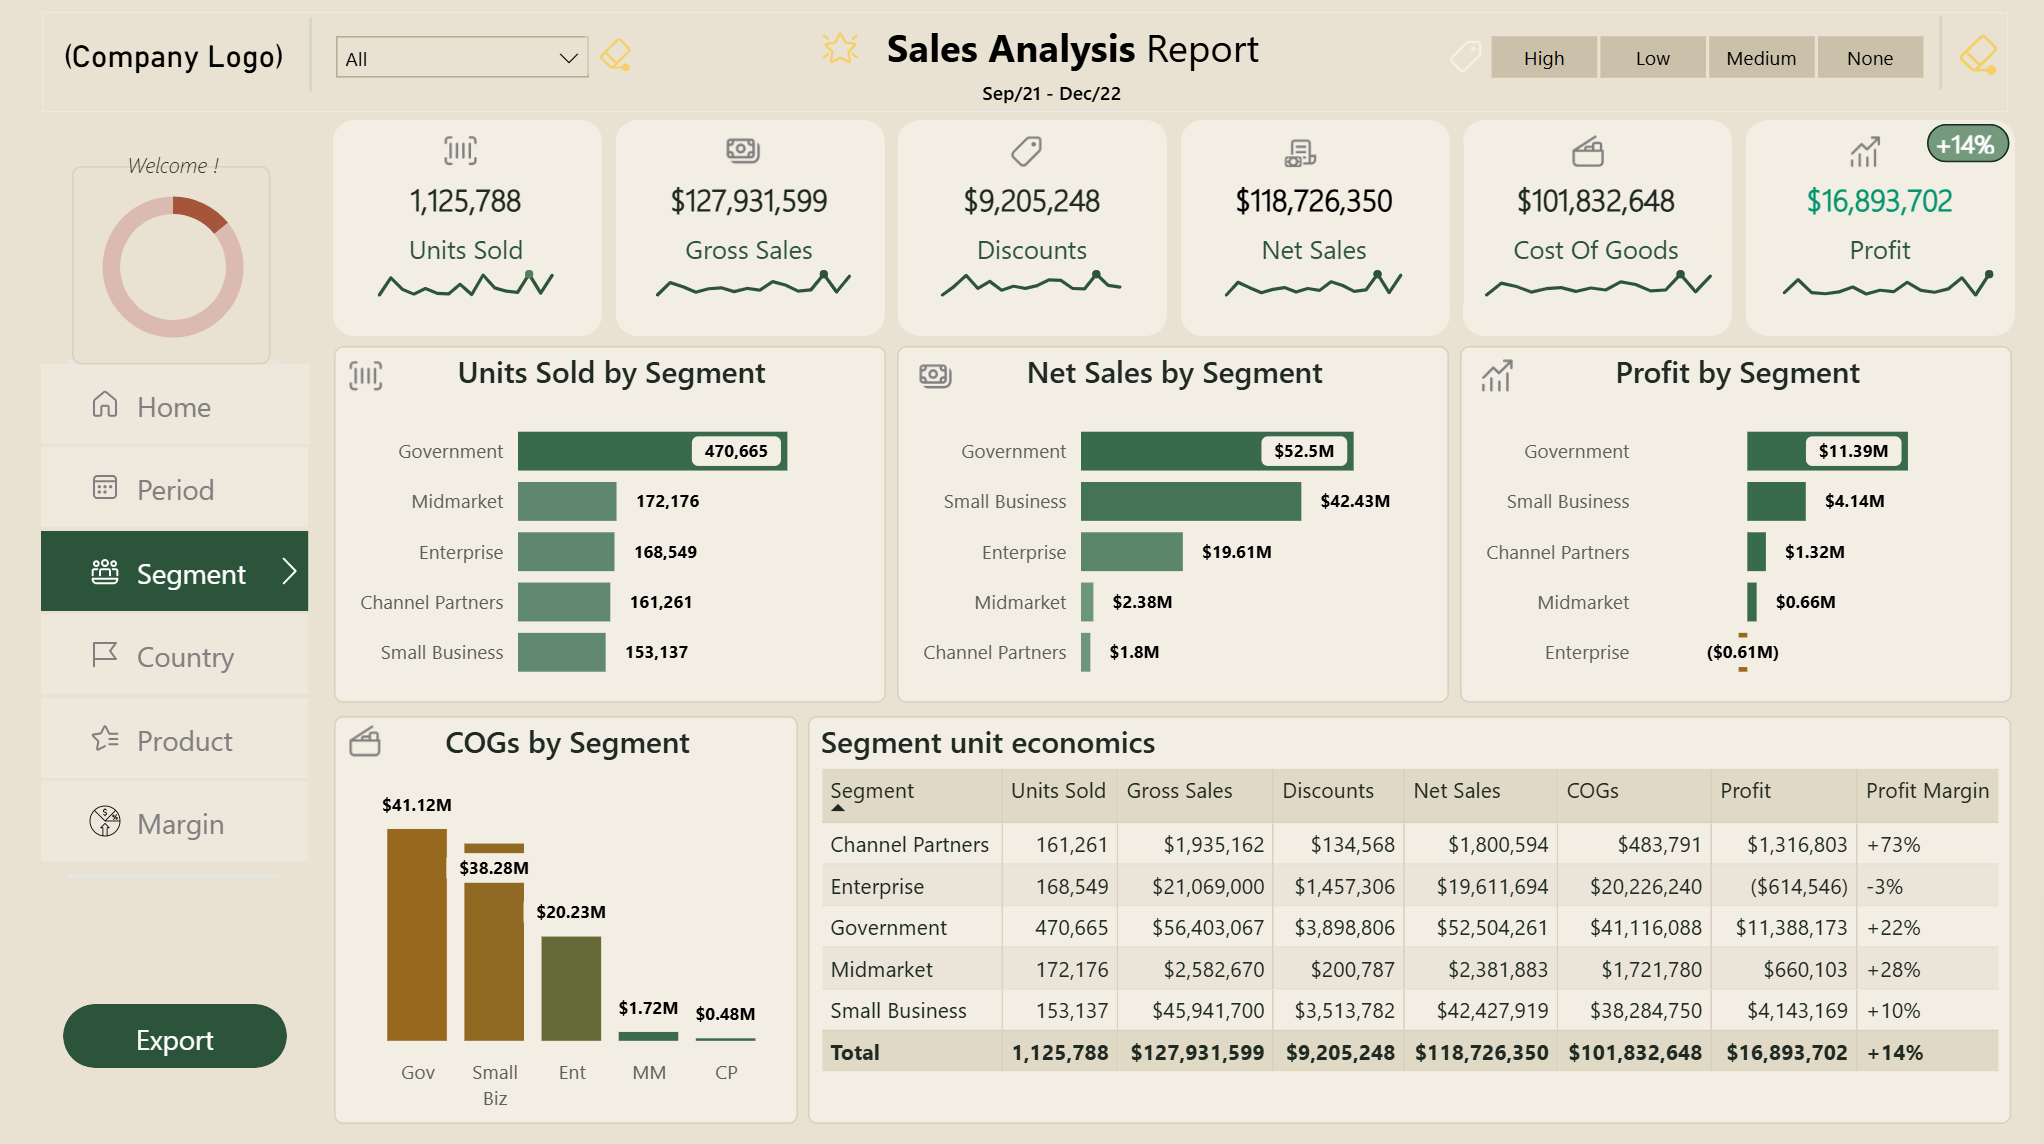

This screenshot's page, from the dashboard's own definition file:
{"tool":"powerbi","page":{"name":"Sales Analysis","canvas":[1280,720],"ordinal":1},"visuals":[{"type":"textbox","title":"Text box Title","box":[552,9.3,307.6,46.1],"z":0,"group":"g6"},{"type":"shape","title":"Shape _Profit_YOY","box":[1207.2,79.2,51.5,24],"z":0,"group":"g3"},{"type":"pivotTable","fields":{"Rows":["DIM_MANAGERS.Image URL"]},"box":[67.1,121.2,85,85],"z":0,"group":"g5"},{"type":"clusteredBarChart","title":"Units Sold by Product","fields":{"Category":["FACT_SALES.Product"],"Y":["Measure.M_Units Sold"]},"box":[211,216,345,223],"z":0,"group":"g2"},{"type":"actionButton","title":"Button_Product_active","box":[28,438,167.1,50],"z":0,"group":"g1"},{"type":"actionButton","title":"Button_Export","box":[42,629.2,140,40],"z":0,"group":"g4"},{"type":"shape","box":[1093.6,77.1,168,135],"z":500},{"type":"textbox","title":"Text box Logo","box":[28.6,20.7,164.6,37],"z":1000,"group":"g6"},{"type":"cardVisual","title":"Card_Profit_YOY","fields":{"Data":["Measure.M_Profit Margin Formatted"]},"box":[1195.1,71.8,73.5,31.1],"z":1000,"group":"g3"},{"type":"shape","box":[65.7,126.9,85.7,85.7],"z":1000,"group":"g5"},{"type":"clusteredBarChart","title":"Net Sales by Product","fields":{"Category":["FACT_SALES.Product"],"Y":["Measure.M_Net Sales"]},"box":[563.6,216,345,223],"z":1000,"group":"g2"},{"type":"actionButton","title":"Button arrow","box":[165.1,438,30,50],"z":1000,"group":"g1"},{"type":"shape","title":"Shape_Bottom_Nav_divider","box":[45,533.2,132,32],"z":1000,"group":"g4"},{"type":"slicer","title":"Slicer_Discount_Band","fields":{"Values":["FACT_SALES.Discount Band"]},"box":[908.4,17.5,319.7,40.4],"z":2000,"group":"g6"},{"type":"donutChart","title":"Donut Chart Profit Margin and Profit Margin Difference","fields":{"Y":["Measure.M_Profit Margin","Measure.M_100% Minus Profit Margin"]},"box":[47.1,105.5,124.3,124.3],"z":2000,"group":"g5"},{"type":"pivotTable","title":"Spark_Profit","fields":{"Values":["SparklineData(Measure.M_Profit_[DIM_DATE.YearMonth])"]},"box":[1089.1,136.2,171.9,61.9],"z":2000,"group":"g3"},{"type":"shape","title":"Shape_Top_Nav_divider","box":[45,212.2,132,32],"z":2000,"group":"g4"},{"type":"clusteredBarChart","title":"Profit by Product","fields":{"Category":["FACT_SALES.Product Name (Short)"],"Y":["Measure.M_Profit"]},"box":[916.3,216,345,223],"z":2000,"group":"g2"},{"type":"slicer","title":"Slicer Managers","fields":{"Values":["DIM_MANAGERS.Manager Name"]},"box":[202,14.5,177.6,44.3],"z":3000,"group":"g6"},{"type":"shape","title":"Shape Hide Scrol","box":[139.2,111.2,20,20],"z":3000,"group":"g5"},{"type":"pivotTable","title":"Spark_COG","fields":{"Values":["SparklineData(Measure.M_Cost Of Goods_[DIM_DATE.YearMonth])"]},"box":[903,136.2,183.1,60.6],"z":3000,"group":"g3"},{"type":"clusteredColumnChart","title":"COGs by Product","fields":{"Category":["FACT_SALES.Product Name (Short)"],"Y":["Measure.M_Cost Of Goods"]},"box":[211.6,447,290,255],"z":3000,"group":"g2"},{"type":"actionButton","title":"Button_Help","box":[28,490.2,167.1,50],"z":3000,"group":"g4"},{"type":"tableEx","title":"Product unit economics","fields":{"Values":["FACT_SALES.Product","Measure.M_Units Sold","Measure.M_Gross Sales","Measure.M_Discounts","Measure.M_Net Sales"]},"box":[509.8,447,751.4,255],"z":3500,"group":"g2"},{"type":"actionButton","title":"Button Clear Managers","box":[368.2,23.4,37.6,24.6],"z":4000,"group":"g6"},{"type":"shape","box":[917,77.1,168,135],"z":4000},{"type":"cardVisual","title":"Card Welcome","fields":{"Data":["Measure.M_User Greeting"]},"box":[33.3,82,154.4,36.7],"z":4000,"group":"g5"},{"type":"pivotTable","title":"Spark_Net_Sales","fields":{"Values":["SparklineData(Measure.M_Net Sales_[DIM_DATE.YearMonth])"]},"box":[739.9,136.2,169.3,61.9],"z":4000,"group":"g3"},{"type":"group","id":"g1","title":"Button_Product_active","box":[28,438,167.1,50],"z":4000,"group":"g4"},{"type":"shape","box":[740.5,77.1,168,135],"z":4625},{"type":"actionButton","title":"Button Title Icon","box":[498.9,12,57.9,40],"z":5000,"group":"g6"},{"type":"pivotTable","title":"Spark_Dscounts","fields":{"Values":["SparklineData(Measure.M_Discounts_[DIM_DATE.YearMonth])"]},"box":[562.7,136.2,169.3,61.9],"z":5000,"group":"g3"},{"type":"shape","box":[563.9,77.1,168,135],"z":5250},{"type":"shape","box":[387.4,77.1,168,135],"z":5375},{"type":"shape","box":[210.8,77.1,168,135],"z":5500},{"type":"cardVisual","title":"Card Date Range","fields":{"Data":["Measure.M_Date Selection"]},"box":[599.4,39.3,121.9,32.9],"z":6000,"group":"g6"},{"type":"pivotTable","title":"Spark_Gross_Sales","fields":{"Values":["SparklineData(Measure.M_Gross Sales_[DIM_DATE.YearMonth])"]},"box":[384.8,136.2,171.3,61.9],"z":6000,"group":"g3"},{"type":"pivotTable","title":"Spark_Unit_Sold","fields":{"Values":["SparklineData(Measure.M_Units Sold_[DIM_DATE.YearMonth])"]},"box":[210.8,136.2,167.3,61.9],"z":6500,"group":"g3"},{"type":"actionButton","title":"Button Discount icon","box":[904.2,24.4,28.2,26.6],"z":7000,"group":"g6"},{"type":"cardVisual","title":"Card_Profit","fields":{"Data":["Measure.M_Profit"]},"box":[1090,95.3,175,90],"z":7000,"group":"g3"},{"type":"group","id":"g2","title":"Product","box":[211,216,1050.3,486],"z":7000},{"type":"actionButton","title":"Button_Country","box":[28,385.8,167.1,50],"z":7000,"group":"g4"},{"type":"actionButton","title":"Button Clear Discount","box":[1220.7,21.4,36.9,29.5],"z":8000,"group":"g6"},{"type":"cardVisual","title":"Card_COG","fields":{"Data":["Measure.M_Cost Of Goods"]},"box":[920,95.3,160,90],"z":8000,"group":"g3"},{"type":"shape","title":"Divider Line Left","box":[182.4,12.8,28.3,46.1],"z":9000,"group":"g6"},{"type":"cardVisual","title":"Card_Net_Sales","fields":{"Data":["Measure.M_Net Sales"]},"box":[744,95.3,160,90],"z":9000,"group":"g3"},{"type":"actionButton","title":"Button_Segment","box":[28,333.6,167.1,50],"z":9000,"group":"g4"},{"type":"shape","title":"Divider Line Right","box":[1205.8,12,18.4,46.1],"z":10000,"group":"g6"},{"type":"cardVisual","title":"Card_Discount","fields":{"Data":["Measure.M_Discounts"]},"box":[568,95.3,160,90],"z":10000,"group":"g3"},{"type":"cardVisual","title":"Card_Gross_Sales","fields":{"Data":["Measure.M_Gross Sales"]},"box":[391,95.3,160,90],"z":11000,"group":"g3"},{"type":"actionButton","box":[28,281.4,167.1,50],"z":11000,"group":"g4"},{"type":"group","id":"g3","title":"Static","box":[210.8,71.8,1057.9,408.4],"z":12000},{"type":"cardVisual","title":"Card_Unit_Sold","fields":{"Data":["Measure.M_Units Sold"]},"box":[214,95.3,160,90],"z":12000,"group":"g3"},{"type":"actionButton","title":"Button_Home","box":[28,229.2,168,50],"z":12000,"group":"g4"},{"type":"group","id":"g4","title":"Navigation","box":[28,82,168,587.2],"z":13000},{"type":"group","id":"g5","title":"Group_Mgr Image","box":[33.3,82,154.4,147.8],"z":13000,"group":"g4"},{"type":"group","id":"g6","title":"Header","box":[28.6,9.3,1228.9,62.9],"z":14000},{"type":"actionButton","title":"Button_Profit","box":[1152.5,81.3,33.1,30.9],"z":14000,"group":"g3"},{"type":"actionButton","title":"Button_COG","box":[979.5,80.8,33.6,31.4],"z":15000,"group":"g3"},{"type":"actionButton","title":"Button_Net_Sales","box":[800.9,81.3,33.1,30.9],"z":16000,"group":"g3"},{"type":"shape","box":[907,90.5,12.1,101.6],"z":16000},{"type":"actionButton","title":"Button_Discount","box":[628.1,81,32.9,31.2],"z":17000,"group":"g3"},{"type":"actionButton","title":"Button_Gross_Sales","box":[450.9,79.4,33.6,32.9],"z":18000,"group":"g3"},{"type":"actionButton","title":"Button_Unit_Sold","box":[274.5,80.2,32.3,32],"z":19000,"group":"g3"},{"type":"actionButton","title":"Button_COG","box":[215.2,449.1,32.6,31.1],"z":20000,"group":"g3"},{"type":"actionButton","title":"Button_Profit","box":[922.2,220.5,32.6,32],"z":21000,"group":"g3"},{"type":"actionButton","title":"Button_Gross_Sales","box":[571.5,220.5,32.6,32],"z":22000,"group":"g3"},{"type":"actionButton","title":"Button_Unit_Sold","box":[215.2,220.5,32.6,32.2],"z":23000,"group":"g3"}]}

Visuals, with their boxes in screenshot pixels (x1, y1, x2, y2), scaled from the page's 1280x720 canvas onto the 2044x1144 screenshot:
"Text box Title" textbox: bbox=[881, 15, 1373, 88]
"Shape _Profit_YOY" shape: bbox=[1928, 126, 2010, 164]
pivotTable - DIM_MANAGERS.Image URL: bbox=[107, 193, 243, 328]
"Units Sold by Product" clusteredBarChart: bbox=[337, 343, 888, 698]
"Button_Product_active" actionButton: bbox=[45, 696, 312, 775]
"Button_Export" actionButton: bbox=[67, 1000, 291, 1063]
shape: bbox=[1746, 123, 2015, 337]
"Text box Logo" textbox: bbox=[46, 33, 309, 92]
"Card_Profit_YOY" cardVisual: bbox=[1908, 114, 2026, 163]
shape: bbox=[105, 202, 242, 338]
"Net Sales by Product" clusteredBarChart: bbox=[900, 343, 1451, 698]
"Button arrow" actionButton: bbox=[264, 696, 312, 775]
"Shape_Bottom_Nav_divider" shape: bbox=[72, 847, 283, 898]
"Slicer_Discount_Band" slicer: bbox=[1451, 28, 1961, 92]
"Donut Chart Profit Margin and Profit Margin Difference" donutChart: bbox=[75, 168, 274, 365]
"Spark_Profit" pivotTable: bbox=[1739, 216, 2014, 315]
"Shape_Top_Nav_divider" shape: bbox=[72, 337, 283, 388]
"Profit by Product" clusteredBarChart: bbox=[1463, 343, 2014, 698]
"Slicer Managers" slicer: bbox=[323, 23, 606, 93]
"Shape Hide Scrol" shape: bbox=[222, 177, 254, 208]
"Spark_COG" pivotTable: bbox=[1442, 216, 1734, 313]
"COGs by Product" clusteredColumnChart: bbox=[338, 710, 801, 1115]
"Button_Help" actionButton: bbox=[45, 779, 312, 858]
"Product unit economics" tableEx: bbox=[814, 710, 2014, 1115]
"Button Clear Managers" actionButton: bbox=[588, 37, 648, 76]
shape: bbox=[1464, 123, 1733, 337]
"Card Welcome" cardVisual: bbox=[53, 130, 300, 189]
"Spark_Net_Sales" pivotTable: bbox=[1182, 216, 1452, 315]
"Button_Product_active" group: bbox=[45, 696, 312, 775]
shape: bbox=[1182, 123, 1451, 337]
"Button Title Icon" actionButton: bbox=[797, 19, 889, 83]
"Spark_Dscounts" pivotTable: bbox=[899, 216, 1169, 315]
shape: bbox=[900, 123, 1169, 337]
shape: bbox=[619, 123, 887, 337]
shape: bbox=[337, 123, 605, 337]
"Card Date Range" cardVisual: bbox=[957, 62, 1152, 115]
"Spark_Gross_Sales" pivotTable: bbox=[614, 216, 888, 315]
"Spark_Unit_Sold" pivotTable: bbox=[337, 216, 604, 315]
"Button Discount icon" actionButton: bbox=[1444, 39, 1489, 81]
"Card_Profit" cardVisual: bbox=[1741, 151, 2020, 294]
"Product" group: bbox=[337, 343, 2014, 1115]
"Button_Country" actionButton: bbox=[45, 613, 312, 692]
"Button Clear Discount" actionButton: bbox=[1949, 34, 2008, 81]
"Card_COG" cardVisual: bbox=[1469, 151, 1725, 294]
"Divider Line Left" shape: bbox=[291, 20, 336, 94]
"Card_Net_Sales" cardVisual: bbox=[1188, 151, 1444, 294]
"Button_Segment" actionButton: bbox=[45, 530, 312, 609]
"Divider Line Right" shape: bbox=[1926, 19, 1955, 92]
"Card_Discount" cardVisual: bbox=[907, 151, 1163, 294]
"Card_Gross_Sales" cardVisual: bbox=[624, 151, 880, 294]
actionButton: bbox=[45, 447, 312, 527]
"Static" group: bbox=[337, 114, 2026, 763]
"Card_Unit_Sold" cardVisual: bbox=[342, 151, 597, 294]
"Button_Home" actionButton: bbox=[45, 364, 313, 444]
"Navigation" group: bbox=[45, 130, 313, 1063]
"Group_Mgr Image" group: bbox=[53, 130, 300, 365]
"Header" group: bbox=[46, 15, 2008, 115]
"Button_Profit" actionButton: bbox=[1840, 129, 1893, 178]
"Button_COG" actionButton: bbox=[1564, 128, 1618, 178]
"Button_Net_Sales" actionButton: bbox=[1279, 129, 1332, 178]
shape: bbox=[1448, 144, 1468, 305]
"Button_Discount" actionButton: bbox=[1003, 129, 1056, 178]
"Button_Gross_Sales" actionButton: bbox=[720, 126, 774, 178]
"Button_Unit_Sold" actionButton: bbox=[438, 127, 490, 178]
"Button_COG" actionButton: bbox=[344, 714, 396, 763]
"Button_Profit" actionButton: bbox=[1473, 350, 1525, 401]
"Button_Gross_Sales" actionButton: bbox=[913, 350, 965, 401]
"Button_Unit_Sold" actionButton: bbox=[344, 350, 396, 402]
